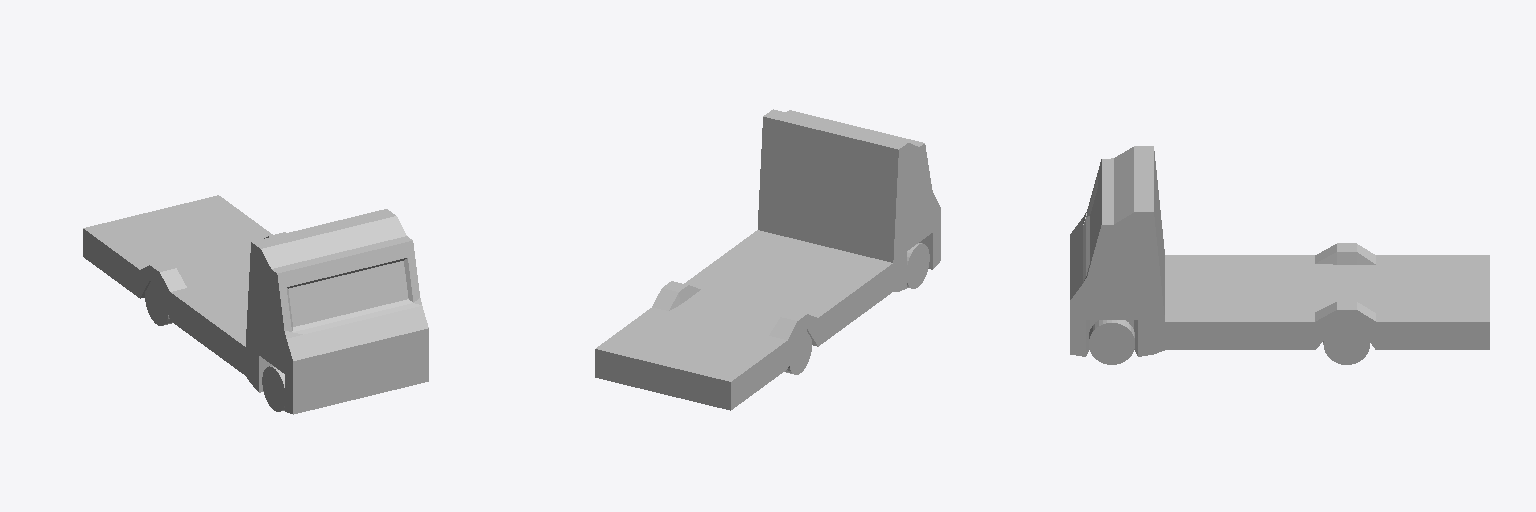
Rendered from truck.obj.
3 views of the same model, side by side, from view 1: azimuth 30°, elevation 25°; view 2: azimuth 150°, elevation 25°; view 3: azimuth 270°, elevation 25° (orthographic).
Parts seen in each view (by area): view 1: Cube, Cylinder.002, Cylinder; view 2: Cube, Cylinder.002, Cylinder; view 3: Cube, Cylinder.004, Cylinder.003.
Part boxes in pixels (x1,y1,x2,y2): Cube: (83, 195, 428, 414); Cylinder.002: (262, 366, 284, 411); Cylinder: (145, 282, 172, 325); Cube: (595, 109, 940, 410); Cylinder.002: (907, 243, 929, 288); Cylinder: (785, 330, 811, 374); Cube: (1070, 146, 1489, 356); Cylinder.004: (1089, 320, 1134, 364); Cylinder.003: (1323, 325, 1369, 364).
Bounding box in the file's own units: 2 × 2.16 × 5.36.